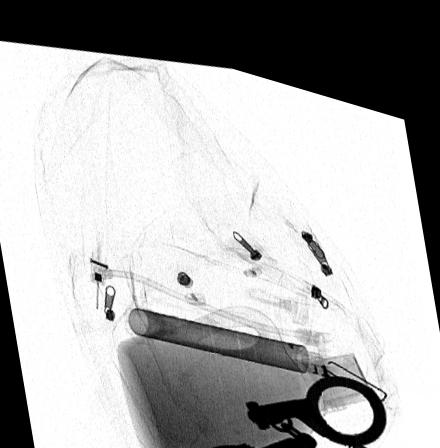HandCuffs: (201, 354, 387, 448)
